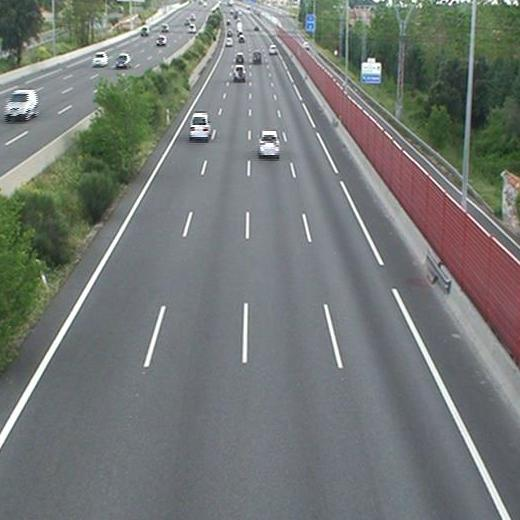car: (189, 113, 211, 138), (258, 132, 280, 155), (233, 66, 245, 80), (251, 50, 262, 61), (235, 53, 244, 63), (269, 45, 278, 55)
